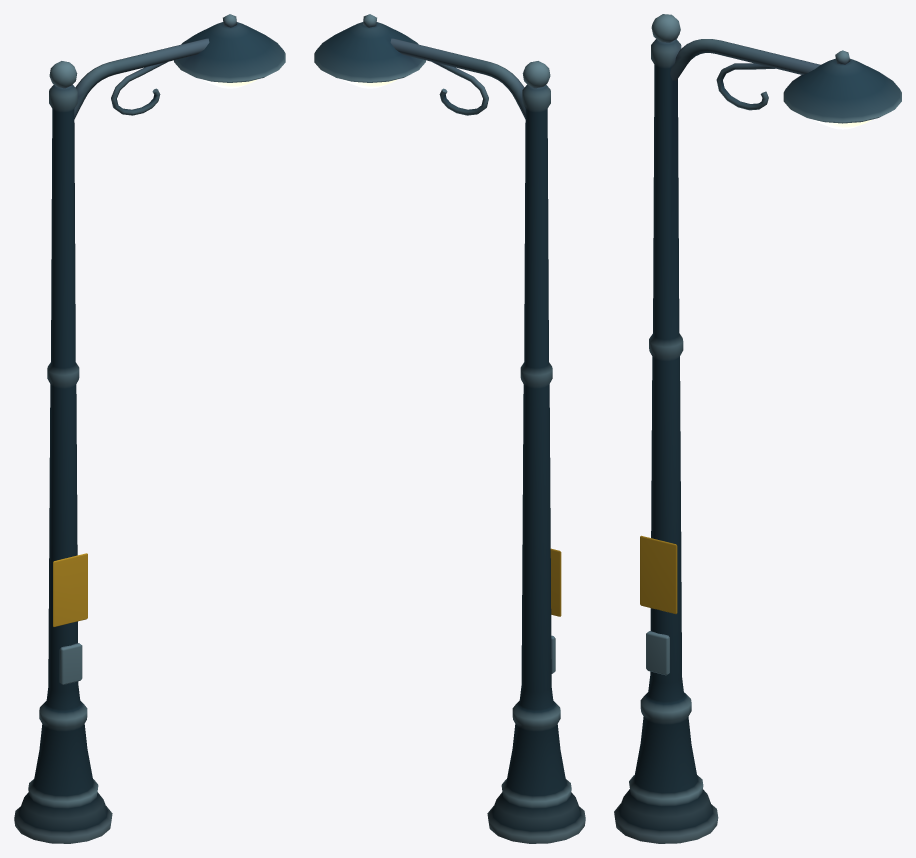
File: lampadaire.glb
The picture shows the model from 3 angles, left to right: view 1: azimuth 30°, elevation 25°; view 2: azimuth 150°, elevation 25°; view 3: azimuth 330°, elevation 25°; orthographic projection. The views are drawn at different scales.
Visible parts, largest first — view 1: lampadaire; view 2: lampadaire; view 3: lampadaire.
Part boxes in pixels (<box>): lampadaire: <box>14,14,285,843</box>; lampadaire: <box>314,14,585,843</box>; lampadaire: <box>614,14,901,843</box>.
Bounding box in the file's own units: 1.48 × 4.19 × 0.5515.
